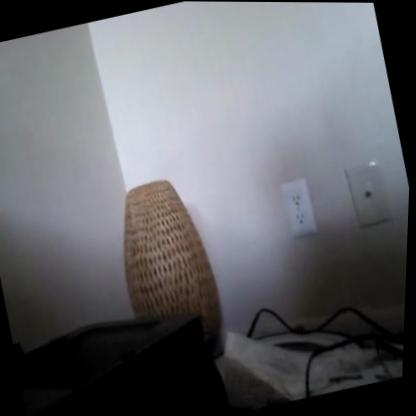OUTLET: (279, 177, 320, 237)
